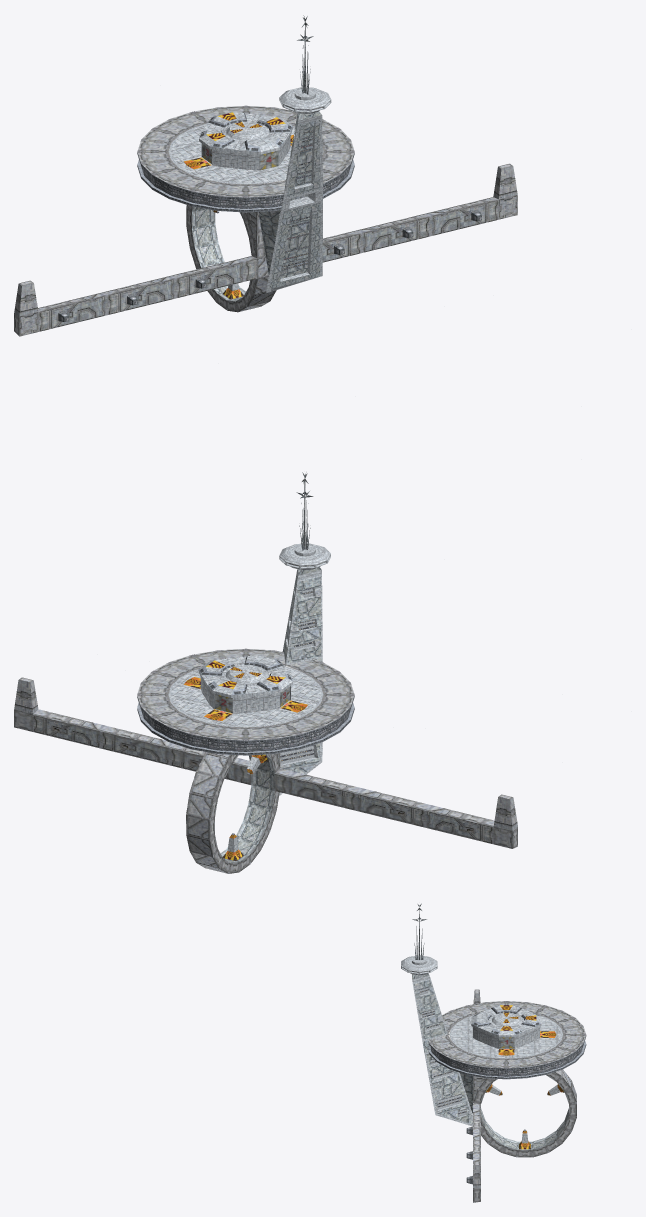
Rendered from Sheriff.obj.
3 views of the same model, one above another, from view 1: azimuth 30°, elevation 25°; view 2: azimuth 150°, elevation 25°; view 3: azimuth 270°, elevation 25° (orthographic). The views are drawn at different scales.
Parts seen in each view (by area): view 1: Main, cntrl_twr; view 2: Main, cntrl_twr, ring; view 3: Main, cntrl_twr.
Boxes of the visible parts, x1,y1,x2,y2 form: Main: (14,105,517,336); cntrl_twr: (279,15,331,113); Main: (14,567,517,873); cntrl_twr: (279,472,330,570); ring: (223,754,268,860); Main: (412,973,586,1202); cntrl_twr: (401,903,437,975).
Size of the model in its own units: 1054 by 690 by 1542.
15 materials, 15 textured.
